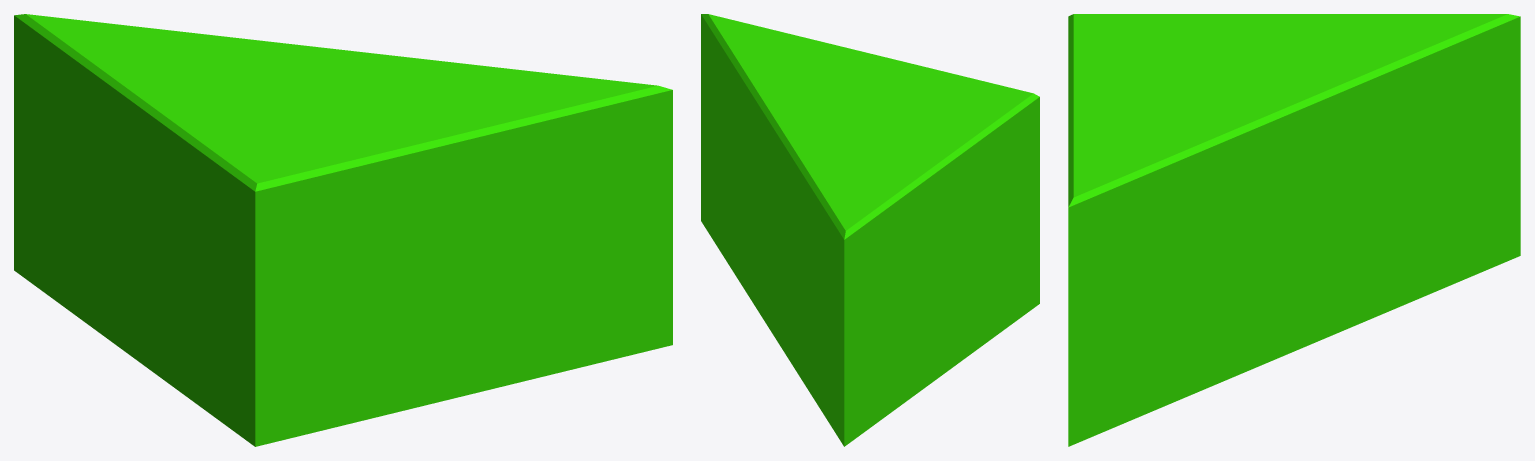
File: triangle_5x3.fbx
3 views of the same model, side by side, from view 1: azimuth 30°, elevation 25°; view 2: azimuth 150°, elevation 25°; view 3: azimuth 270°, elevation 25° (orthographic). The views are drawn at different scales.
Parts seen in each view (by area): view 1: triangle_5x3; view 2: triangle_5x3; view 3: triangle_5x3.
Part boxes in pixels (x1,y1,x2,y2): triangle_5x3: (14, 14, 672, 446); triangle_5x3: (701, 14, 1039, 446); triangle_5x3: (1068, 14, 1520, 446).
Size of the model in its own units: 524 by 312 by 524.
